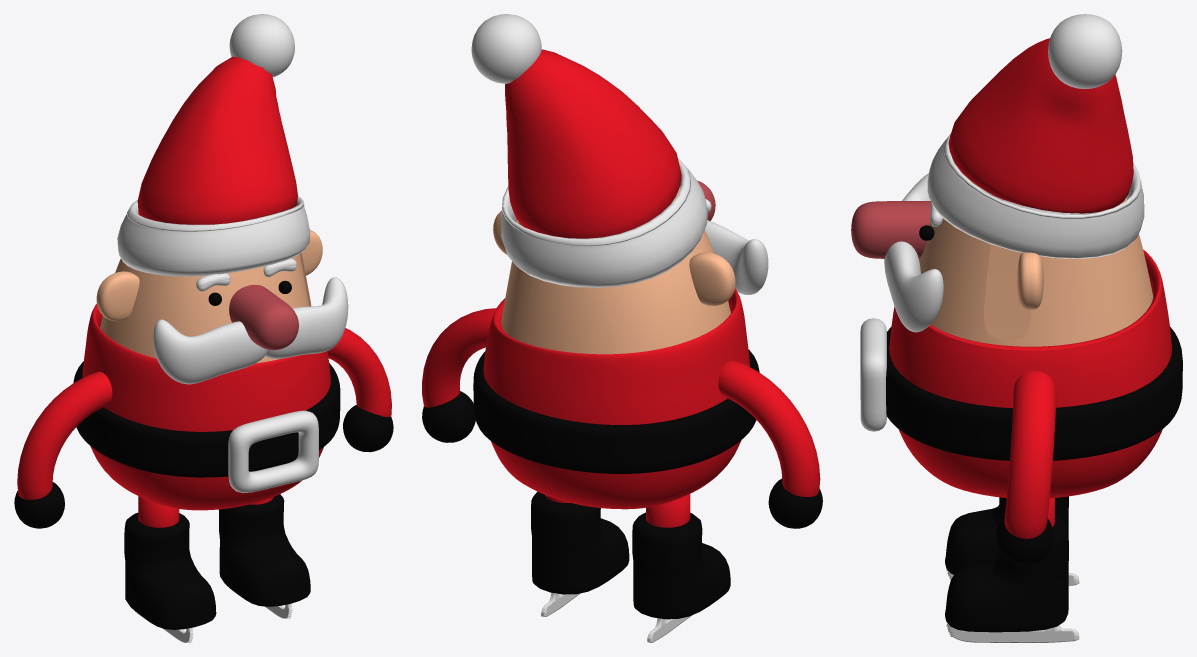
File: санта с коньками фбх2.fbx
3 renders of one model, left to right at view 1: azimuth 30°, elevation 25°; view 2: azimuth 150°, elevation 25°; view 3: azimuth 270°, elevation 25°, orthographic. The views are drawn at different scales.
Visible parts, largest first — view 1: Cube.003, Cube.001, Cube.002, Cube.014, Cube, Object_3.015, Cube.011, Object_3.001, Cylinder.002, Plane, Cube.006, Cylinder.001 (+6 smaller); view 2: Cube.001, Cube.003, Cube, Cube.014, Cube.002, Object_3.015, Object_3.001, Cylinder.002, Cylinder.001, Cube.015, Cube.011, Cube.010 (+3 smaller); view 3: Cube.001, Cube.003, Cube, Cube.014, Cube.002, Object_3.001, Cylinder.001, Cube.015, Cube.011, Cube.006, Object_3.015, Plane (+2 smaller).
Part boxes in pixels (<box>): Cube.003: <box>137,56,297,224</box>; Cube.001: <box>82,303,330,510</box>; Cube.002: <box>117,196,310,276</box>; Cube.014: <box>73,361,340,477</box>; Cube: <box>100,253,311,363</box>; Object_3.015: <box>124,512,216,642</box>; Cube.011: <box>153,277,348,384</box>; Object_3.001: <box>219,494,310,618</box>; Cylinder.002: <box>17,371,112,499</box>; Plane: <box>228,410,318,492</box>; Cube.006: <box>229,284,298,350</box>; Cylinder.001: <box>327,328,391,417</box>; Cube.001: <box>483,288,749,509</box>; Cube.003: <box>505,49,681,238</box>; Cube: <box>501,187,730,354</box>; Cube.014: <box>473,350,759,473</box>; Cube.002: <box>501,158,707,287</box>; Object_3.015: <box>632,512,730,642</box>; Object_3.001: <box>531,491,629,616</box>; Cylinder.002: <box>718,360,820,496</box>; Cylinder.001: <box>422,308,496,407</box>; Cube.015: <box>471,14,541,83</box>; Cube.011: <box>705,220,768,294</box>; Cube.010: <box>689,252,735,305</box>; Cube.001: <box>889,249,1171,498</box>; Cube.003: <box>948,38,1133,213</box>; Cube: <box>919,157,1153,346</box>; Cube.014: <box>886,326,1182,460</box>; Cube.002: <box>927,133,1144,258</box>; Object_3.001: <box>945,515,1079,642</box>; Cylinder.001: <box>1004,371,1056,538</box>; Cube.015: <box>1048,14,1122,88</box>; Cube.011: <box>884,173,943,332</box>; Cube.006: <box>851,201,930,258</box>; Object_3.015: <box>945,496,1079,585</box>; Plane: <box>860,318,886,431</box>.
Size of the model in its own units: 1193 by 1716 by 804.
